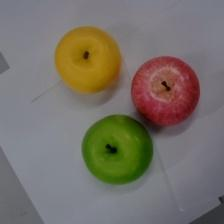green: (82, 115, 153, 184)
red: (131, 56, 200, 125)
yellow: (55, 26, 121, 94)
